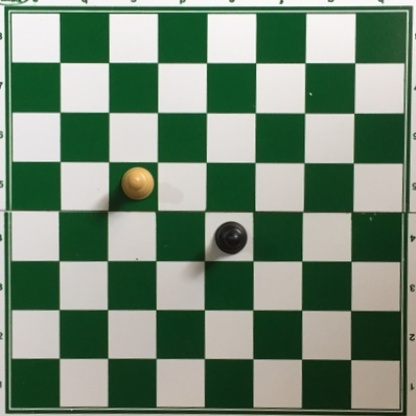black-pawn: (213, 219, 249, 256)
white-pawn: (118, 167, 156, 203)
